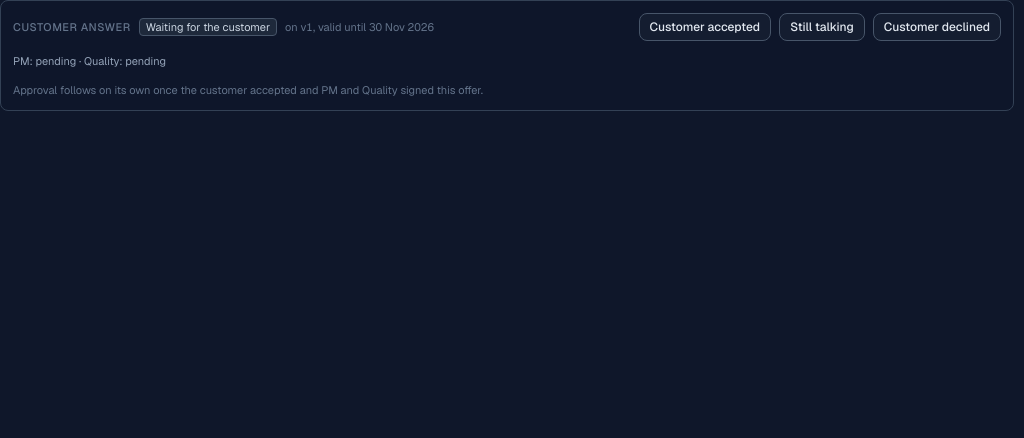
Test case: CustomerDecision §7 (COMMERCIAL_V2) › accept needs evidence, the PO match and the confirmed total; nothing preselected
Later steps or results of the test are not shown.
Click the button "Customer accepted".
click(705, 27)  # box [639,13,771,41]
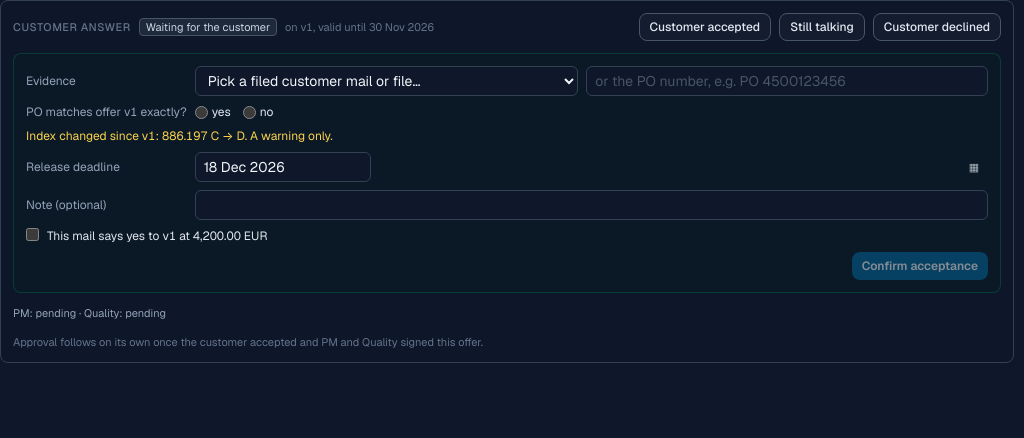
Expected: the radio button with test id "po-match-yes" is not checked, [195,106,208,118]
Expected: the radio button with test id "po-match-no" is not checked, [243,106,256,118]
Expected: the text with test id "accept-index-warning" shows "886.197 C → D", [26,128,333,144]
Type "ok" into the field with test id "answer-ref".
click(787, 81); type("ok")  # box [586,66,988,96]
Click the radio button with test id "po-match-yes".
click(201, 112)  # box [195,106,208,118]
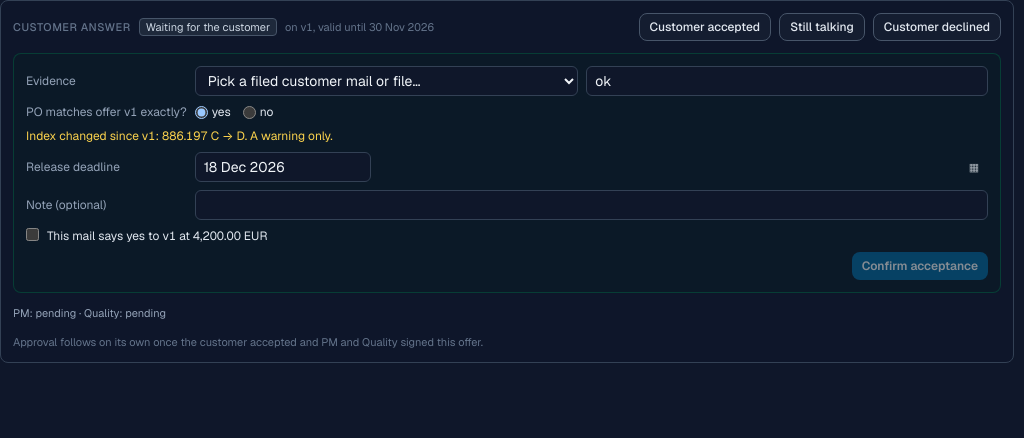
Click the checkbox with test id "accept-total".
click(32, 234)  # box [26,228,39,241]
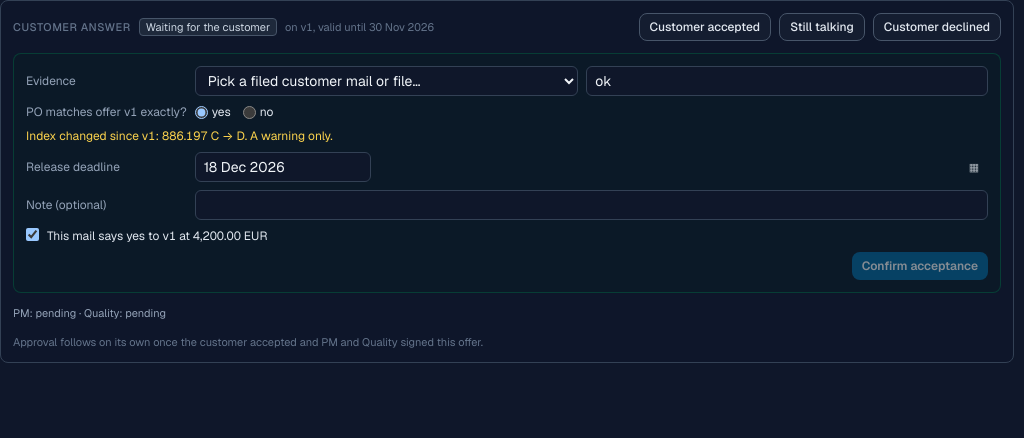
Expected: the button with test id "accept-confirm" is disabled, [852,252,988,280]
Select "PO 4500123456.msg" in the dropdown with test id "answer-mail" at [387, 81], box [195,66,578,96]
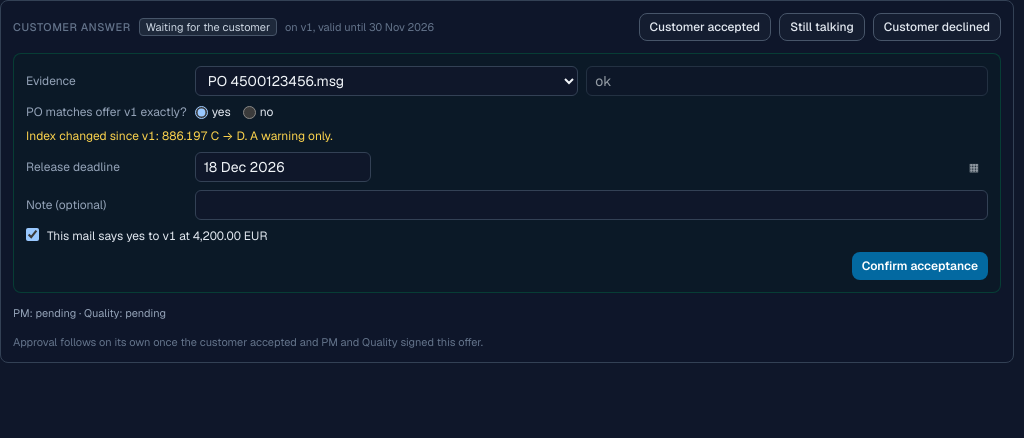
# NEGATIVE: a "no" needs what differs
Click the radio button with test id "po-match-no".
click(249, 112)  # box [243,106,256,118]
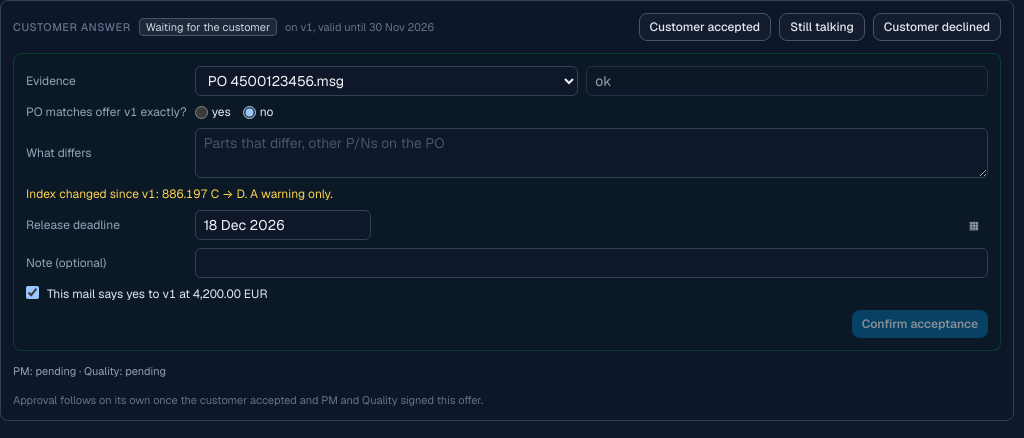
Expected: the button with test id "accept-confirm" is disabled, [852,310,988,338]
Type "886.198 added on the PO" into the text box with test id "answer-differs".
click(591, 153); type("886.198 added on the PO")  # box [195,128,988,178]
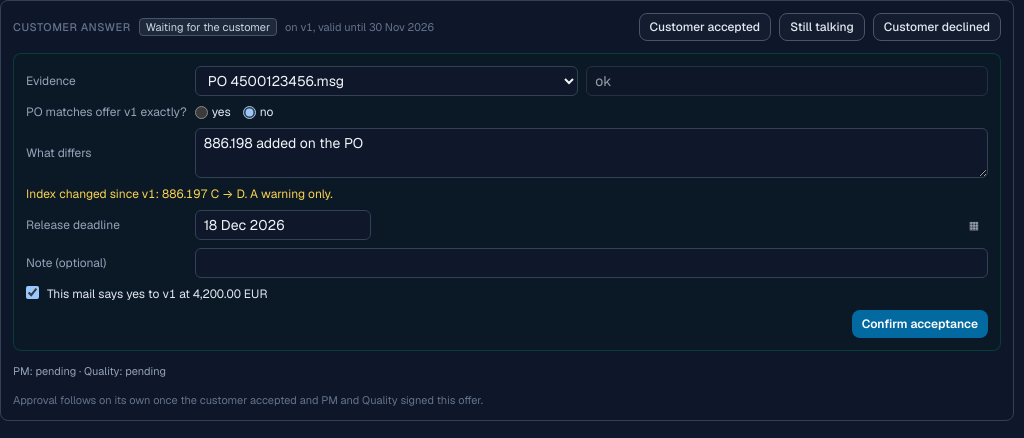
Expected: the element with test id "accept-box" shows "This mail says yes to v1 at", [47,286,268,302]
Expected: the button with test id "accept-confirm" is enabled, [852,310,988,338]
